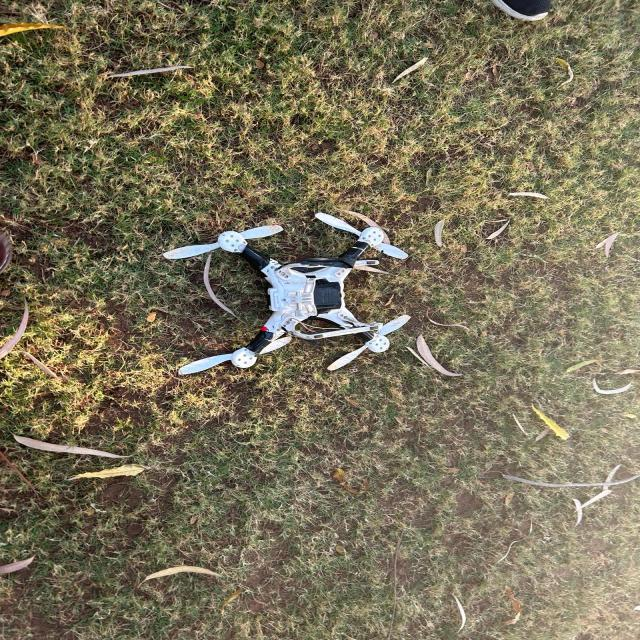drone: (85, 194, 533, 425)
